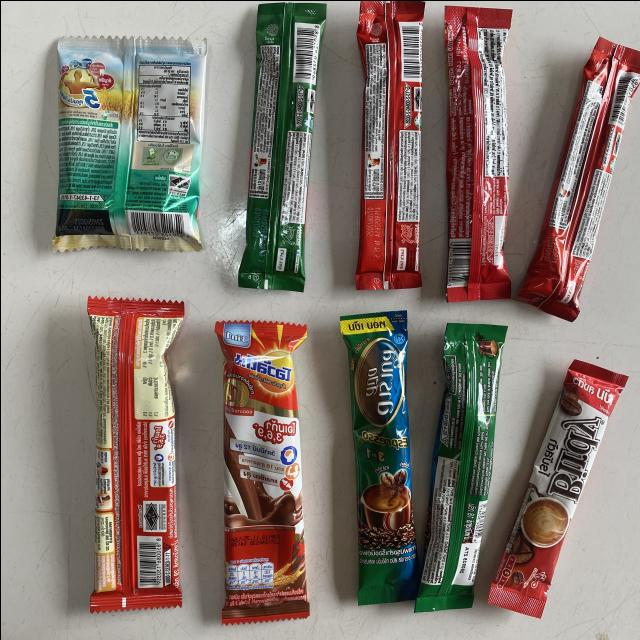plastik: (515, 37, 640, 320), (489, 359, 626, 616), (52, 37, 206, 250), (86, 296, 183, 611), (215, 320, 308, 623), (414, 323, 506, 611), (237, 1, 325, 290), (339, 309, 417, 603), (444, 5, 511, 302), (355, 0, 423, 288)
